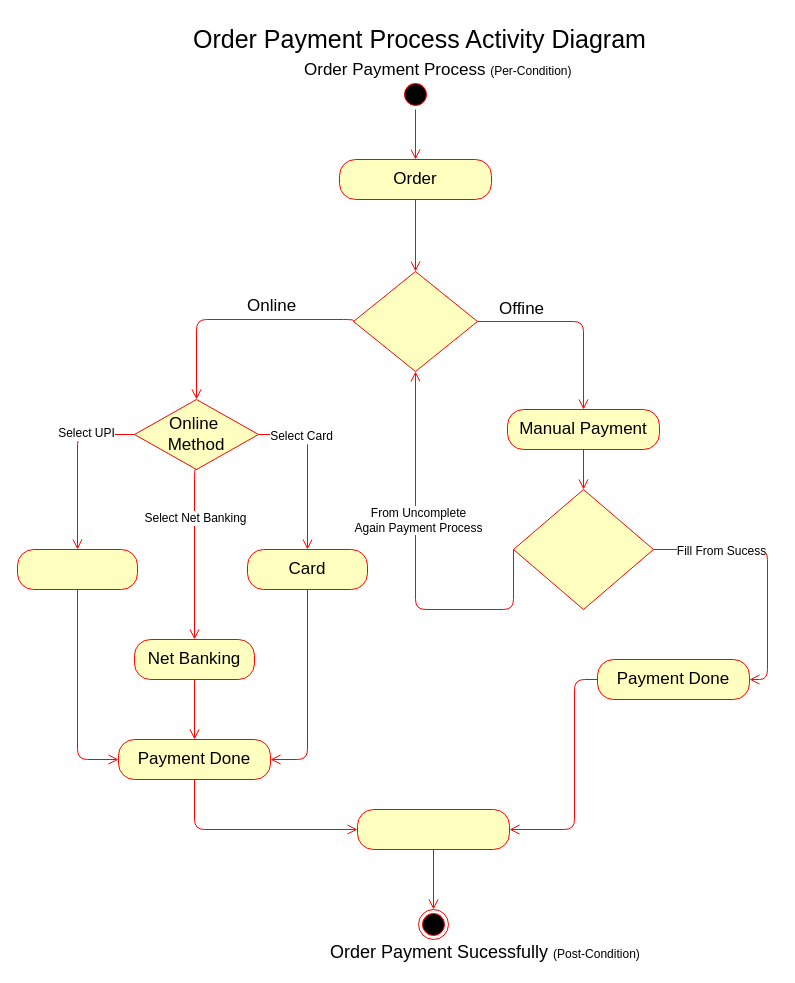
Image size: 795x983. Some labels were removed from this diagram. Each missing label, with the centre of its shape:
Fill Payment From: the point at 583,549
Payment Process: the point at 415,321
UPI: the point at 77,569
Verify: the point at 433,829
